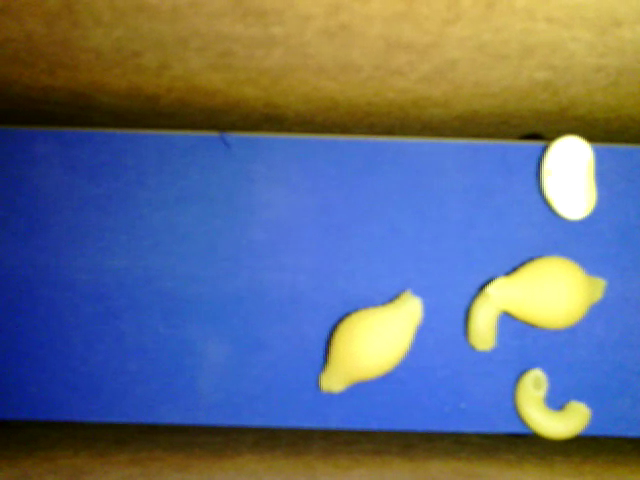elbow: (515, 368, 590, 438), (465, 289, 501, 351)
shell: (319, 286, 423, 393), (484, 253, 605, 330)
